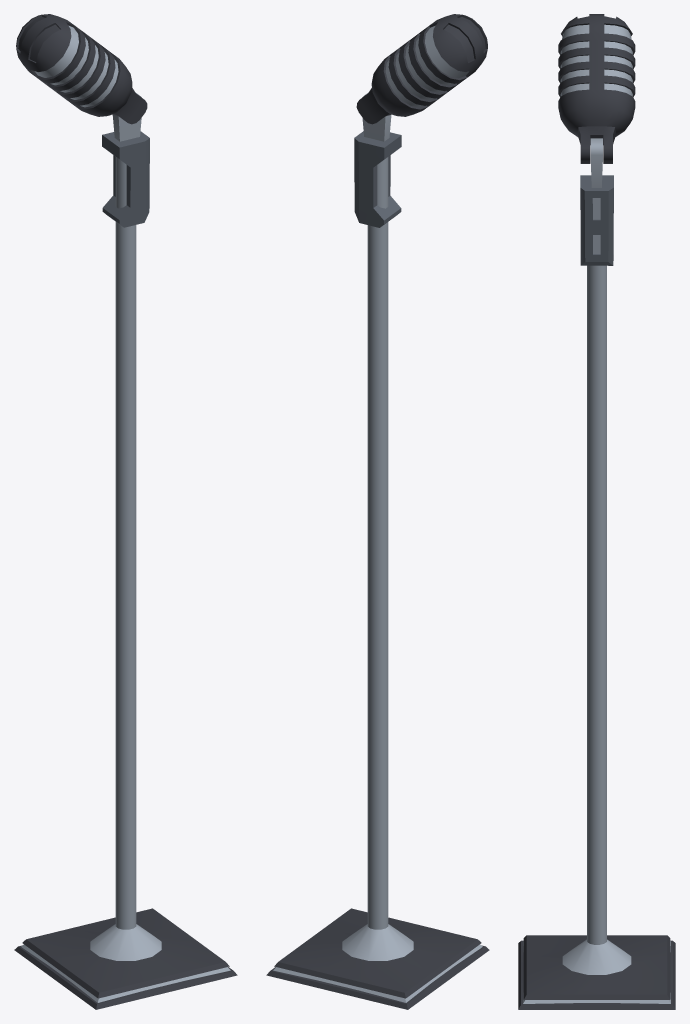
Rendered from mic-stand.dae.
The picture shows the model from 3 angles, left to right: view 1: azimuth 30°, elevation 25°; view 2: azimuth 150°, elevation 25°; view 3: azimuth 270°, elevation 25°; orthographic projection. The views are drawn at different scales.
Visible parts, largest first — view 1: mic-stand; view 2: mic-stand; view 3: mic-stand.
Boxes of the visible parts, left/top/right/bottom form: mic-stand: left=14, top=14, right=237, bottom=1009; mic-stand: left=266, top=14, right=489, bottom=1009; mic-stand: left=518, top=14, right=675, bottom=1009.
Size of the model in its own units: 0.301 by 0.247 by 1.6.
